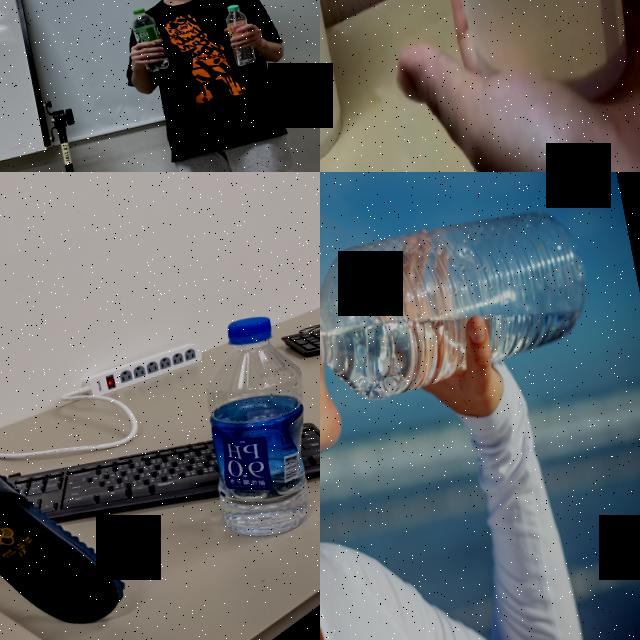bottle: (320, 197, 602, 412), (182, 307, 320, 545), (128, 5, 172, 76), (222, 2, 257, 67)
cup: (351, 0, 640, 129)
